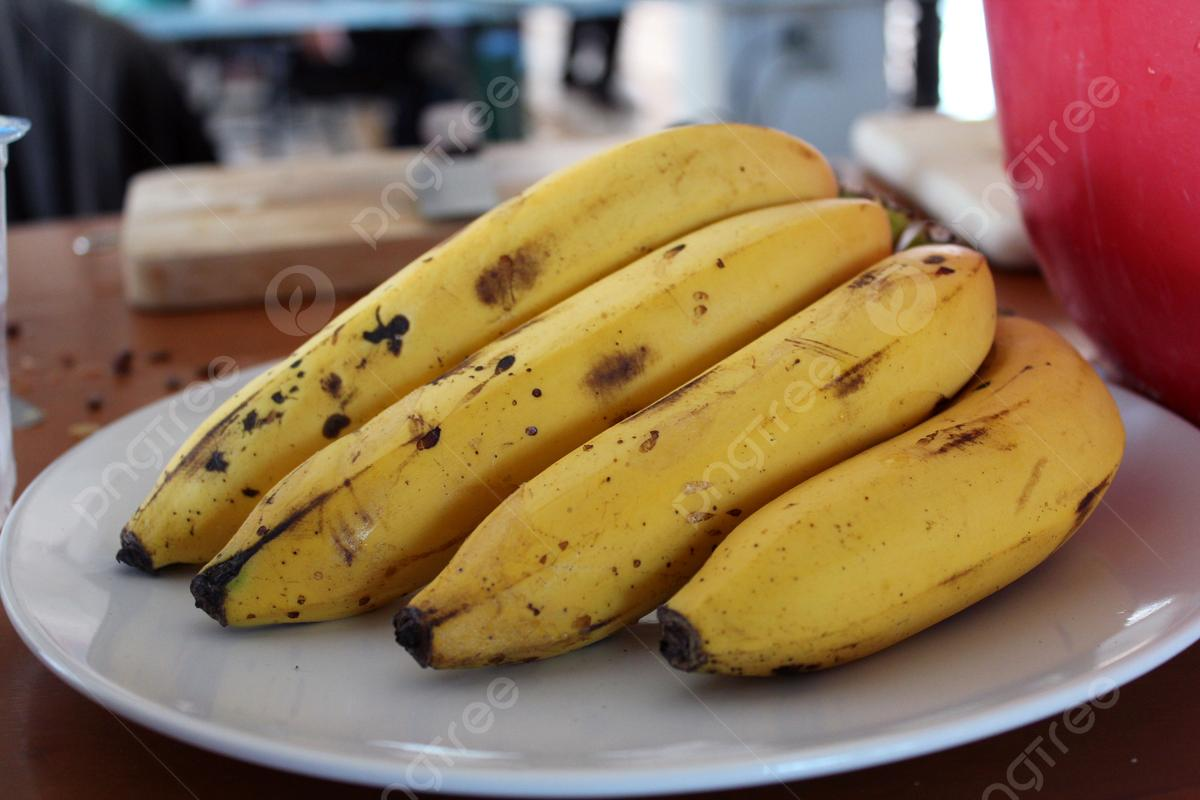buah_sayur_vitA: (835, 466, 1044, 569), (827, 291, 963, 392), (656, 243, 779, 332), (636, 135, 783, 207)
